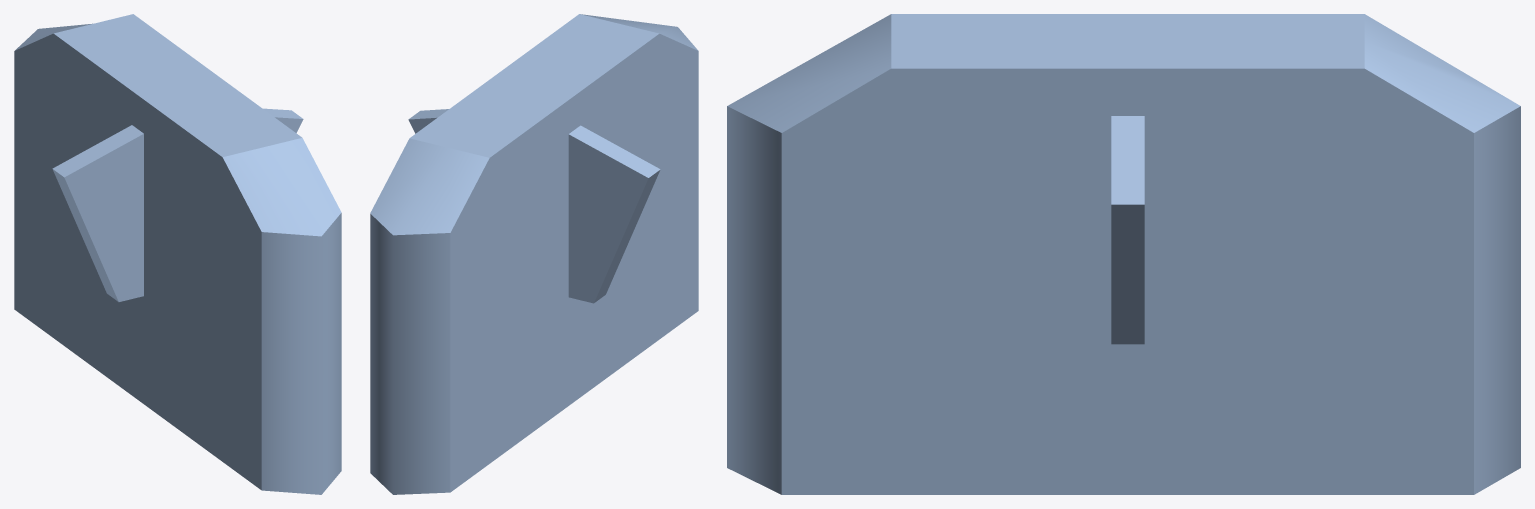
Rendered from MOD_ LOBBY L_activeTurnstile.fbx.
3 views of the same model, side by side, from view 1: azimuth 30°, elevation 25°; view 2: azimuth 150°, elevation 25°; view 3: azimuth 270°, elevation 25° (orthographic). The views are drawn at different scales.
Visible parts, largest first — view 1: polySurface1, barrierL; view 2: polySurface1, barrierL; view 3: polySurface1, barrierL.
Boxes of the visible parts, box(x1,y1,x2,y2) form: polySurface1: box(14, 14, 341, 494); barrierL: box(263, 108, 303, 132); polySurface1: box(370, 14, 698, 494); barrierL: box(408, 109, 448, 133); polySurface1: box(727, 14, 1520, 494); barrierL: box(1111, 116, 1144, 344).
Bounding box in the file's own units: 92.33 × 112 × 189.
